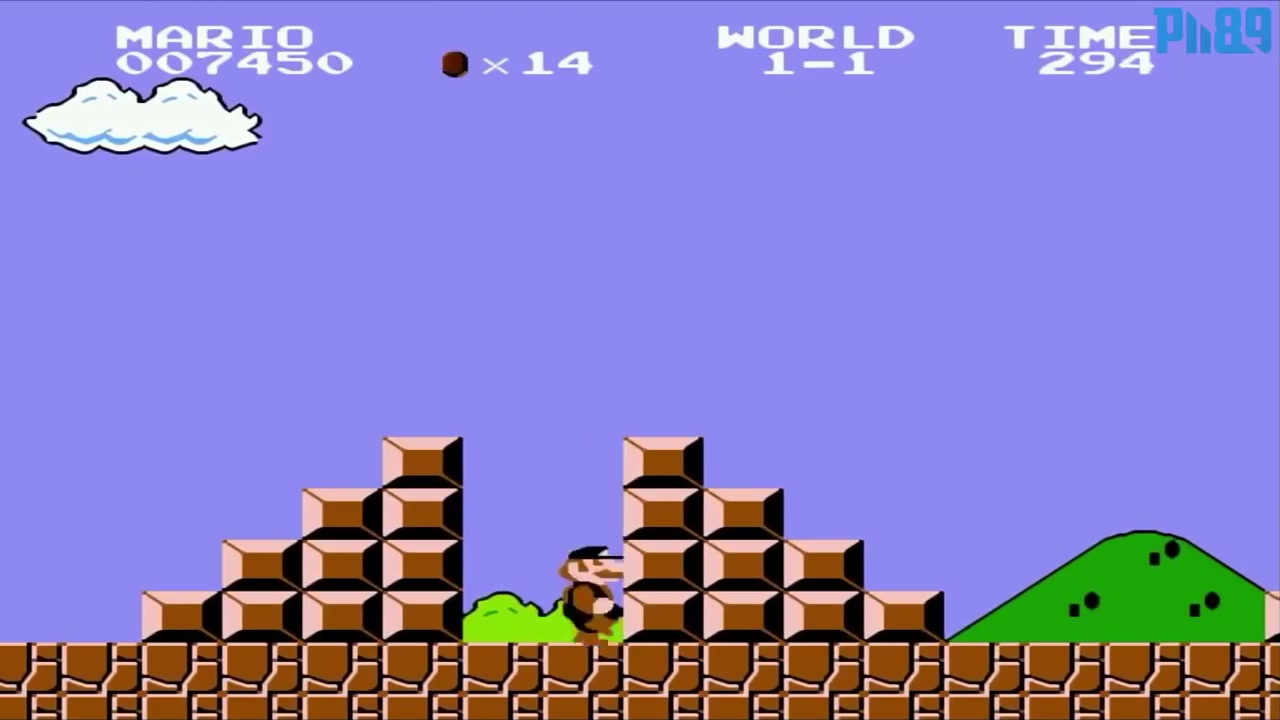mario: (549, 529, 627, 643)
